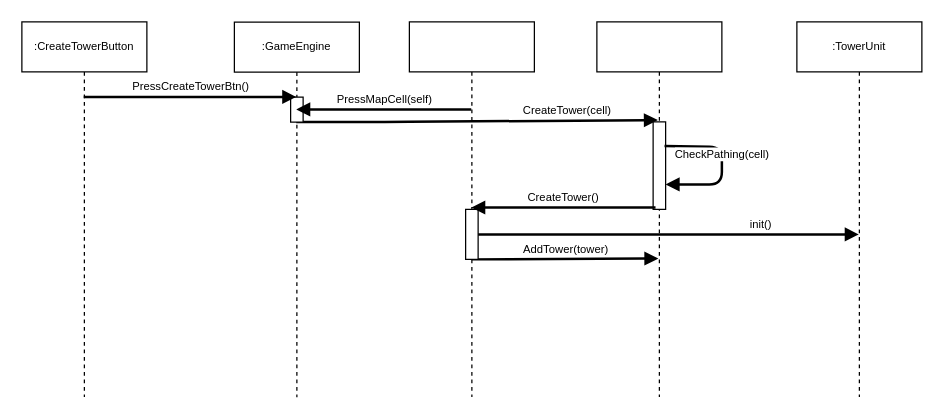
Image size: 944x420. Some labels were removed from this diagram. Each missing label, with the centre of its shape:
":MapCellNode" goes at point 471,209.
":MapFrame" goes at point 659,209.
